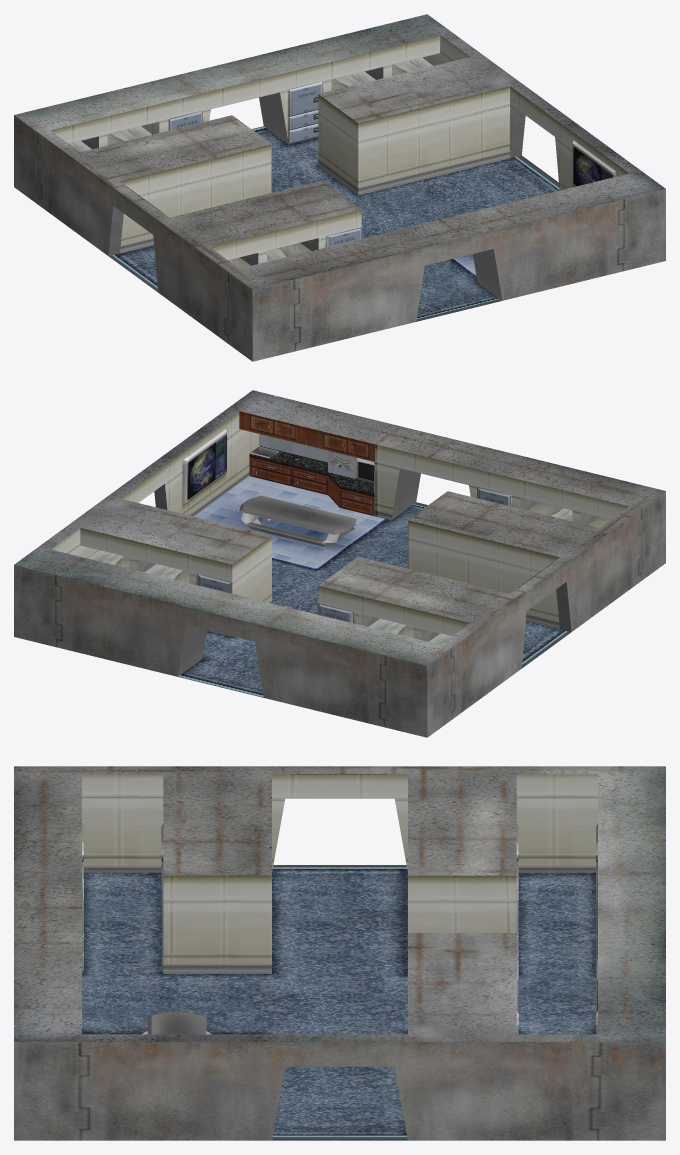
File: Barracks.FBX
The picture shows the model from 3 angles, top to bottom: view 1: azimuth 30°, elevation 25°; view 2: azimuth 150°, elevation 25°; view 3: azimuth 270°, elevation 25°; orthographic projection. The views are drawn at different scales.
Parts seen in each view (by area): view 1: objbarrack; view 2: objbarrack, objtable; view 3: objbarrack, objtable.
Part boxes in pixels (<box>): objbarrack: <box>14,14,665,361</box>; objbarrack: <box>14,390,665,737</box>; objtable: <box>239,495,356,547</box>; objbarrack: <box>14,766,665,1140</box>; objtable: <box>142,1012,211,1034</box>.
Bounding box in the file's own units: 6316 × 1053 × 6316.
